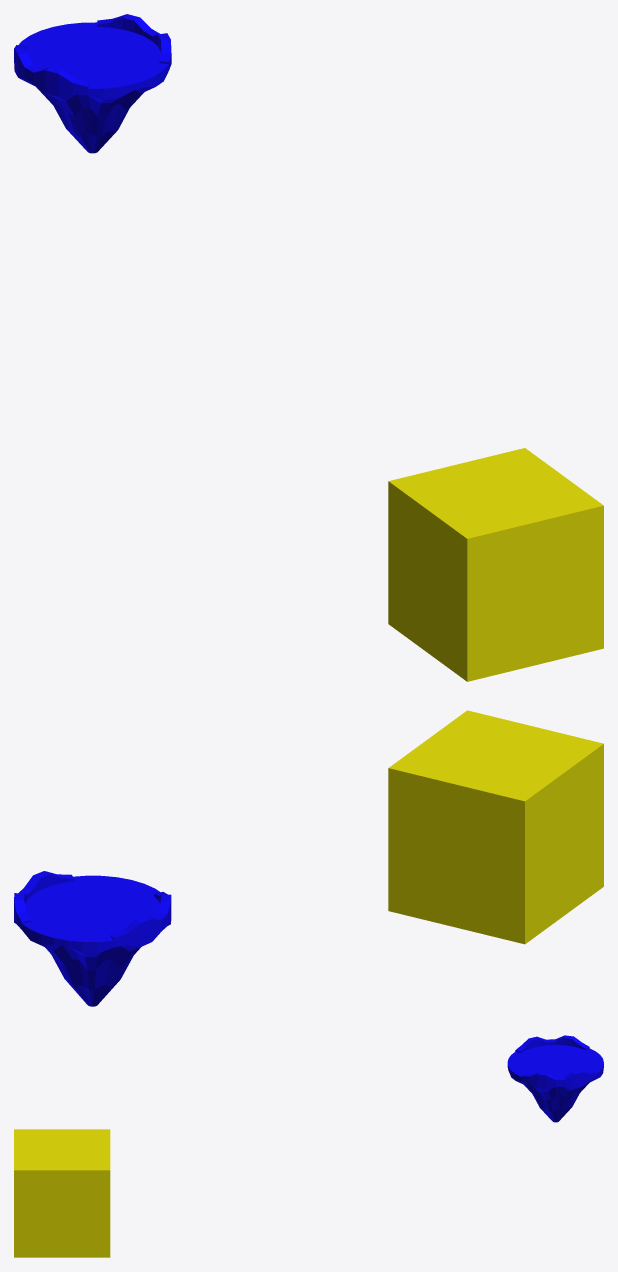
File: baseTemplate.glb
3 renders of one model, top to bottom at view 1: azimuth 30°, elevation 25°; view 2: azimuth 150°, elevation 25°; view 3: azimuth 270°, elevation 25°, orthographic. The views are drawn at different scales.
Parts seen in each view (by area): view 1: Cube, platforme_roche.008; view 2: Cube, platforme_roche.008; view 3: Cube, platforme_roche.008.
Boxes of the visible parts, bbox=[...] form: Cube: bbox=[388, 448, 603, 681]; platforme_roche.008: bbox=[14, 14, 171, 153]; Cube: bbox=[388, 710, 603, 944]; platforme_roche.008: bbox=[14, 871, 171, 1006]; Cube: bbox=[14, 1129, 110, 1257]; platforme_roche.008: bbox=[507, 1035, 603, 1122].
Size of what is drawn, in the model's own units: 2 by 4.16 by 12.23.
